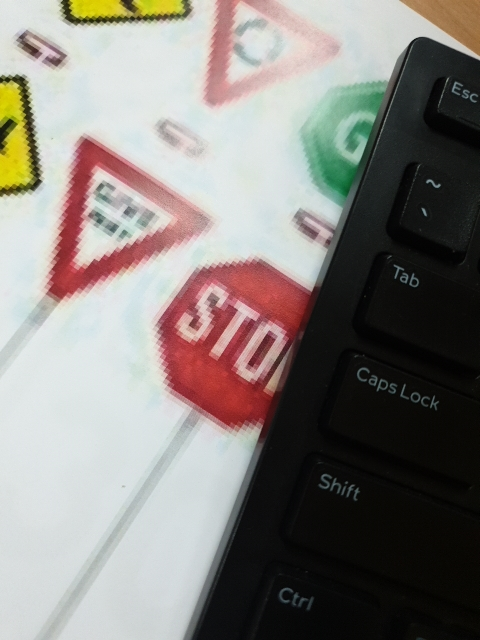giveway: (58, 143, 179, 293)
stop: (187, 254, 317, 431)
